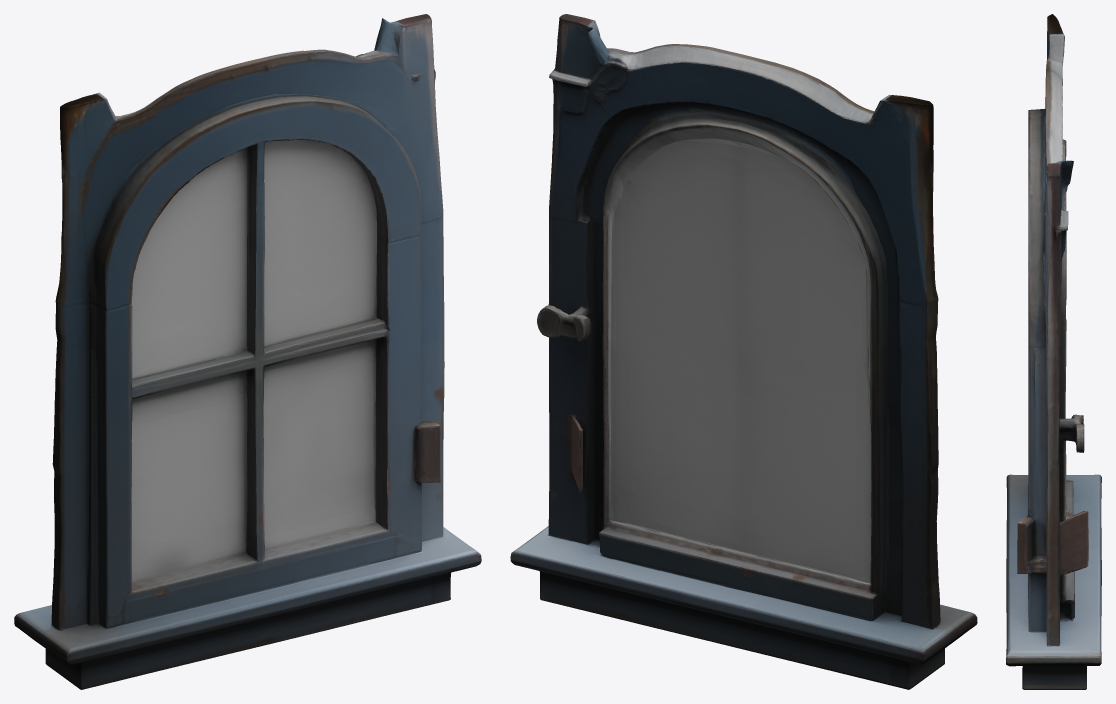
Rendered from vox.glb.
3 views of the same model, side by side, from view 1: azimuth 30°, elevation 25°; view 2: azimuth 150°, elevation 25°; view 3: azimuth 270°, elevation 25° (orthographic). The views are drawn at different scales.
Visible parts, largest first — view 1: world; view 2: world; view 3: world.
Part boxes in pixels (left/top/right/bottom): world: left=14, top=14, right=481, bottom=689; world: left=510, top=14, right=977, bottom=689; world: left=1006, top=14, right=1101, bottom=689.
Bounding box in the file's own units: 0.7578 × 1 × 0.1695.
1 material, 1 textured.
